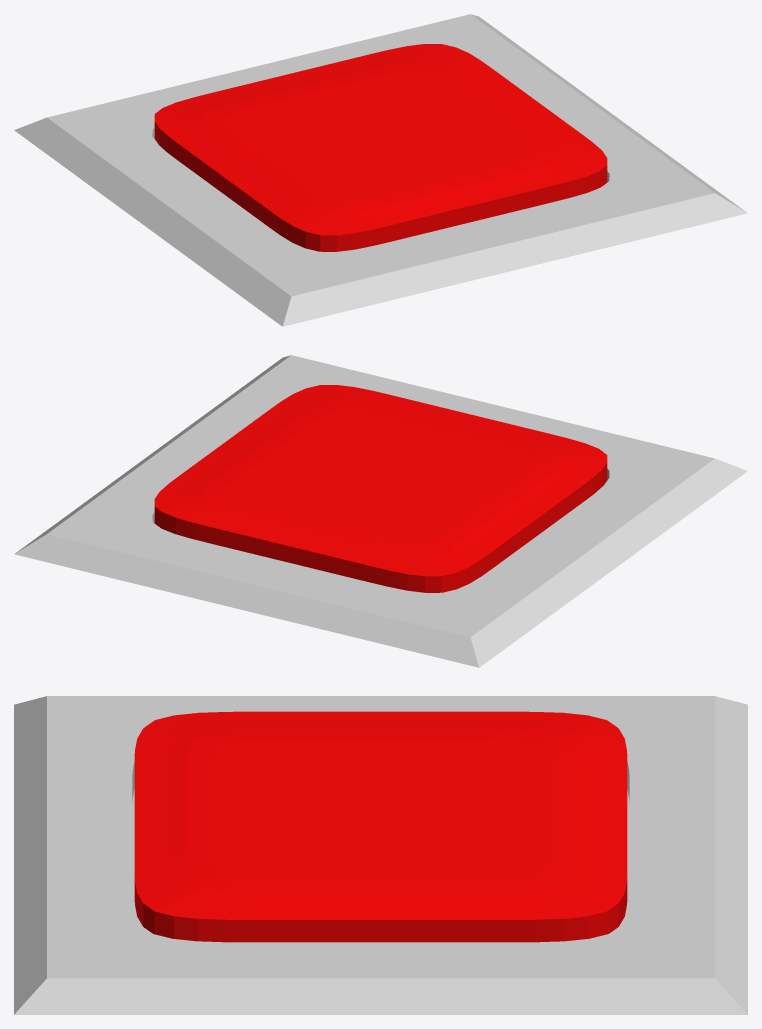
The model's file is props.fbx_b20.fbx.
The picture shows the model from 3 angles, top to bottom: view 1: azimuth 30°, elevation 25°; view 2: azimuth 150°, elevation 25°; view 3: azimuth 270°, elevation 25°; orthographic projection. The views are drawn at different scales.
Visible parts, largest first — view 1: Plane.031, Plane.032; view 2: Plane.031, Plane.032; view 3: Plane.031, Plane.032.
Part boxes in pixels (x1,y1,x2,y2): Plane.031: (14,14,747,326); Plane.032: (154,44,607,251); Plane.031: (14,355,747,667); Plane.032: (154,385,607,592); Plane.031: (14,696,747,1014); Plane.032: (134,711,627,942).
Size of the model in its own units: 1.5 by 0.1222 by 1.5.
